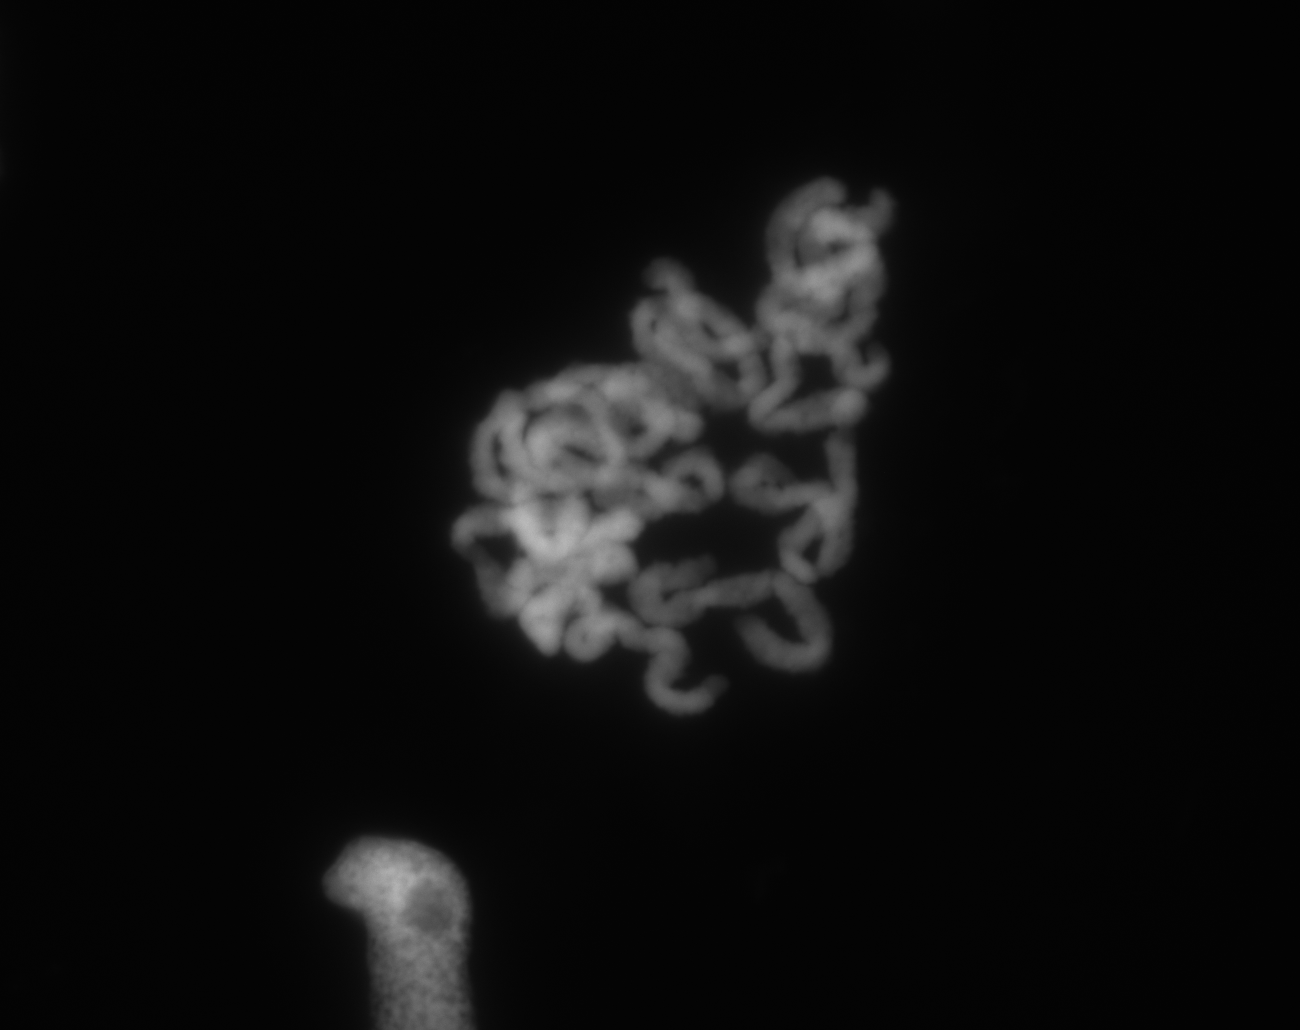Chromosomes: (405, 110, 935, 755)
Others: (309, 788, 514, 1030)
